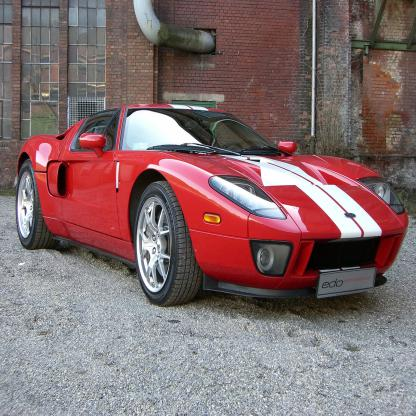Vehicle: (14, 105, 409, 308)
